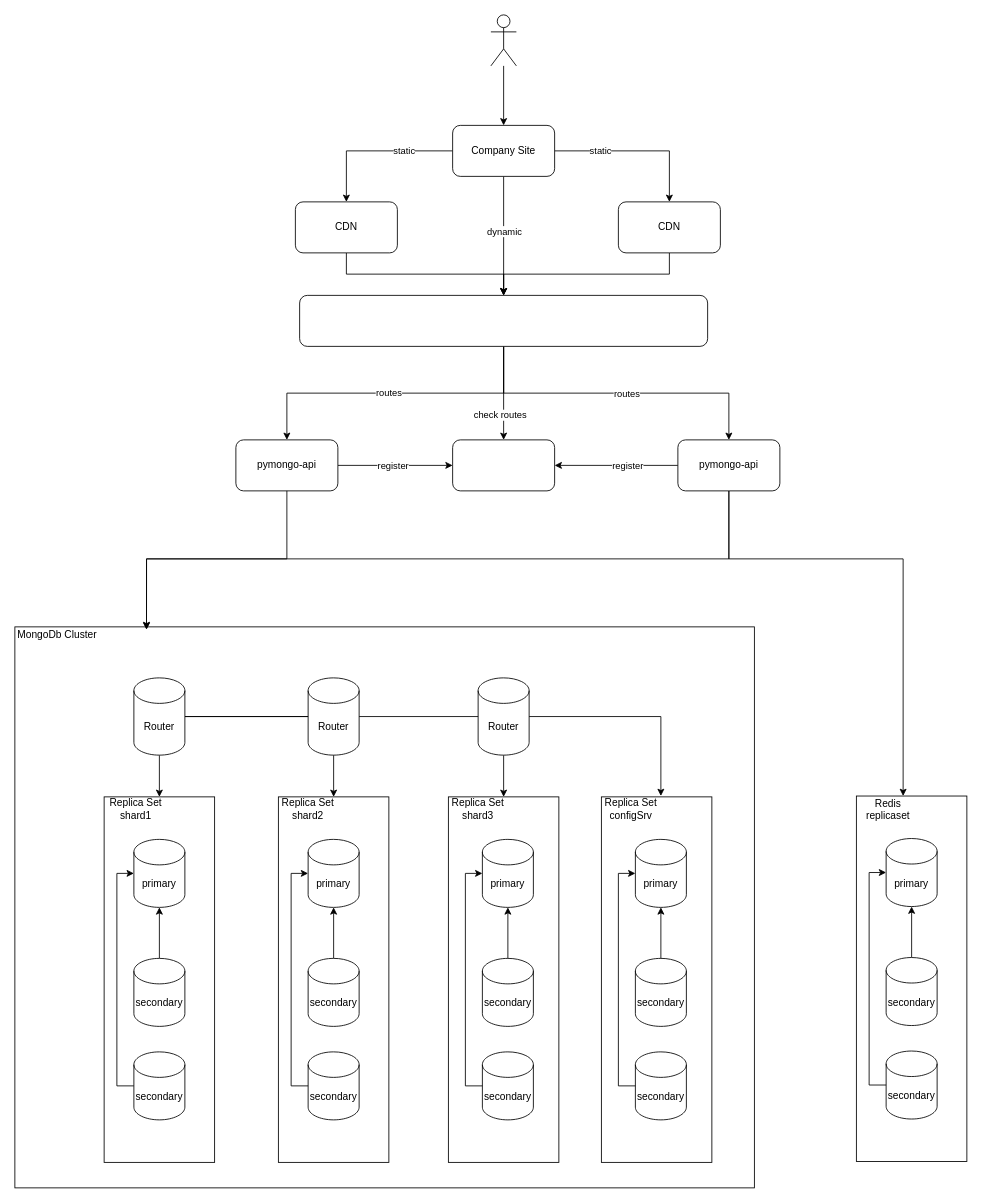
The diagram is 982 pixels wide and 1203 high, and some of its shapes have lost their labels. Each missing label, with the box of its shape:
API Gateway: (299, 295, 708, 346)
Consul: (452, 439, 555, 491)
Customer: (490, 14, 516, 66)
